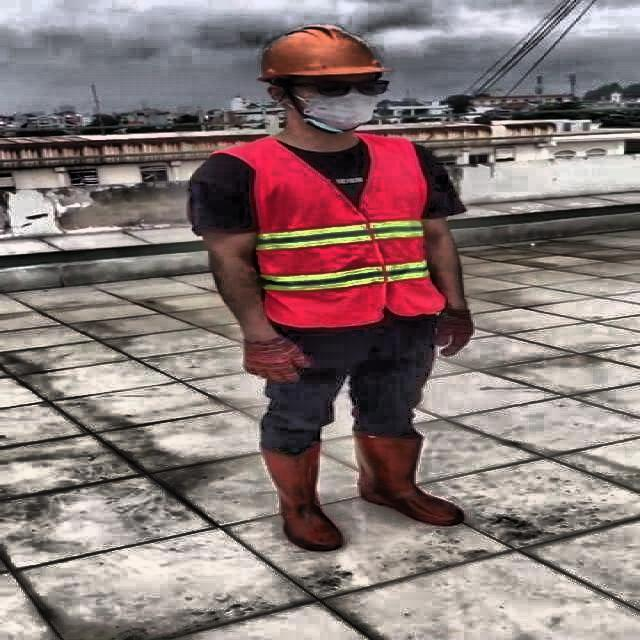safety_helmet: (253, 22, 386, 79)
safety_jacket: (256, 134, 443, 327)
